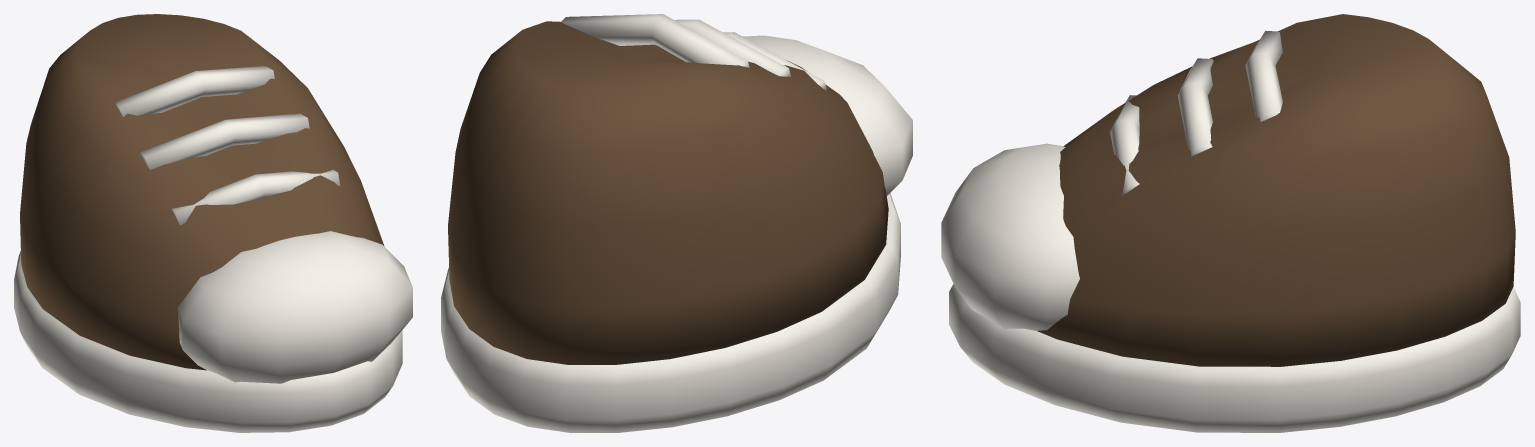
Rendered from calzado_lona.glb.
3 views of the same model, side by side, from view 1: azimuth 30°, elevation 25°; view 2: azimuth 150°, elevation 25°; view 3: azimuth 270°, elevation 25° (orthographic). The views are drawn at different scales.
Parts seen in each view (by area): view 1: pieza; view 2: pieza; view 3: pieza.
Boxes of the visible parts, left/top/right/bottom form: pieza: left=14, top=14, right=412, bottom=432; pieza: left=441, top=14, right=912, bottom=432; pieza: left=941, top=14, right=1520, bottom=432.
Size of the model in its own units: 0.2657 by 0.2187 by 0.3852.
